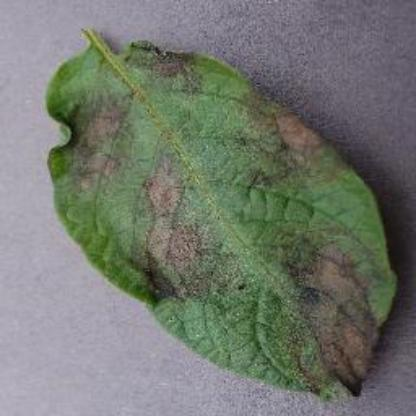Late-Blight: (29, 14, 407, 414)
